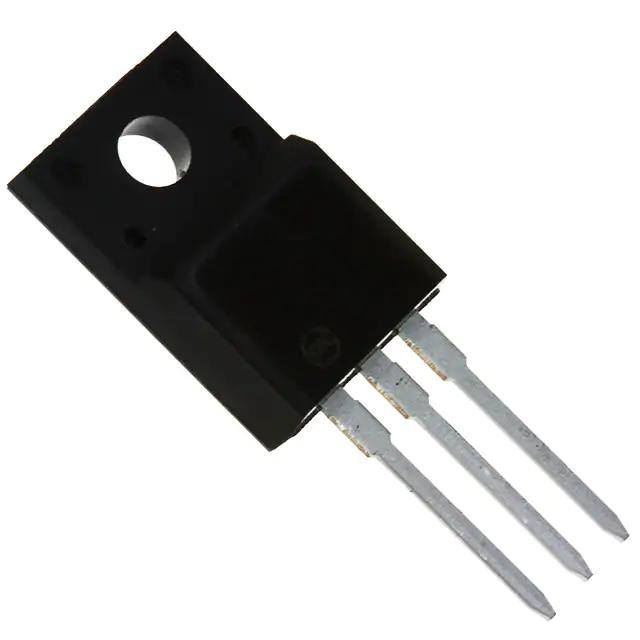Transistor: (18, 33, 606, 592)
